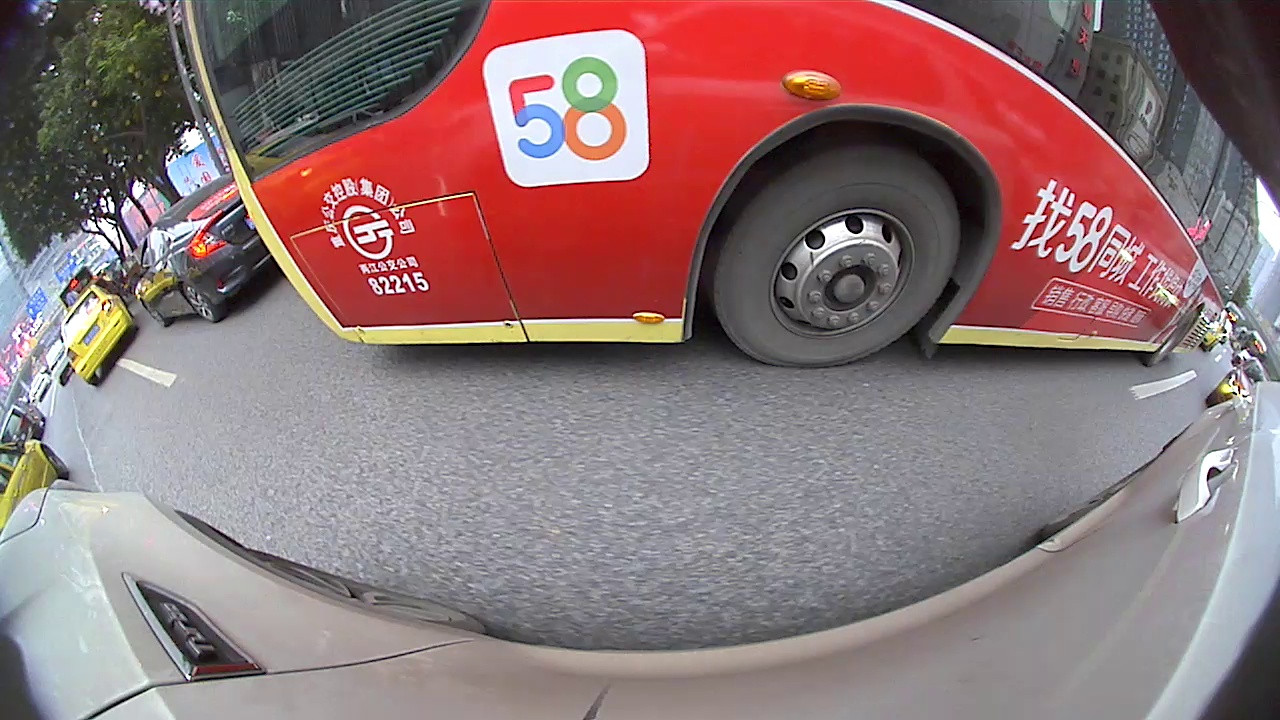bus: (177, 1, 1261, 369)
car: (136, 176, 285, 330), (54, 276, 141, 392)
front: (706, 142, 964, 370), (138, 299, 168, 329)
rear: (1139, 308, 1201, 367), (175, 282, 228, 323)
